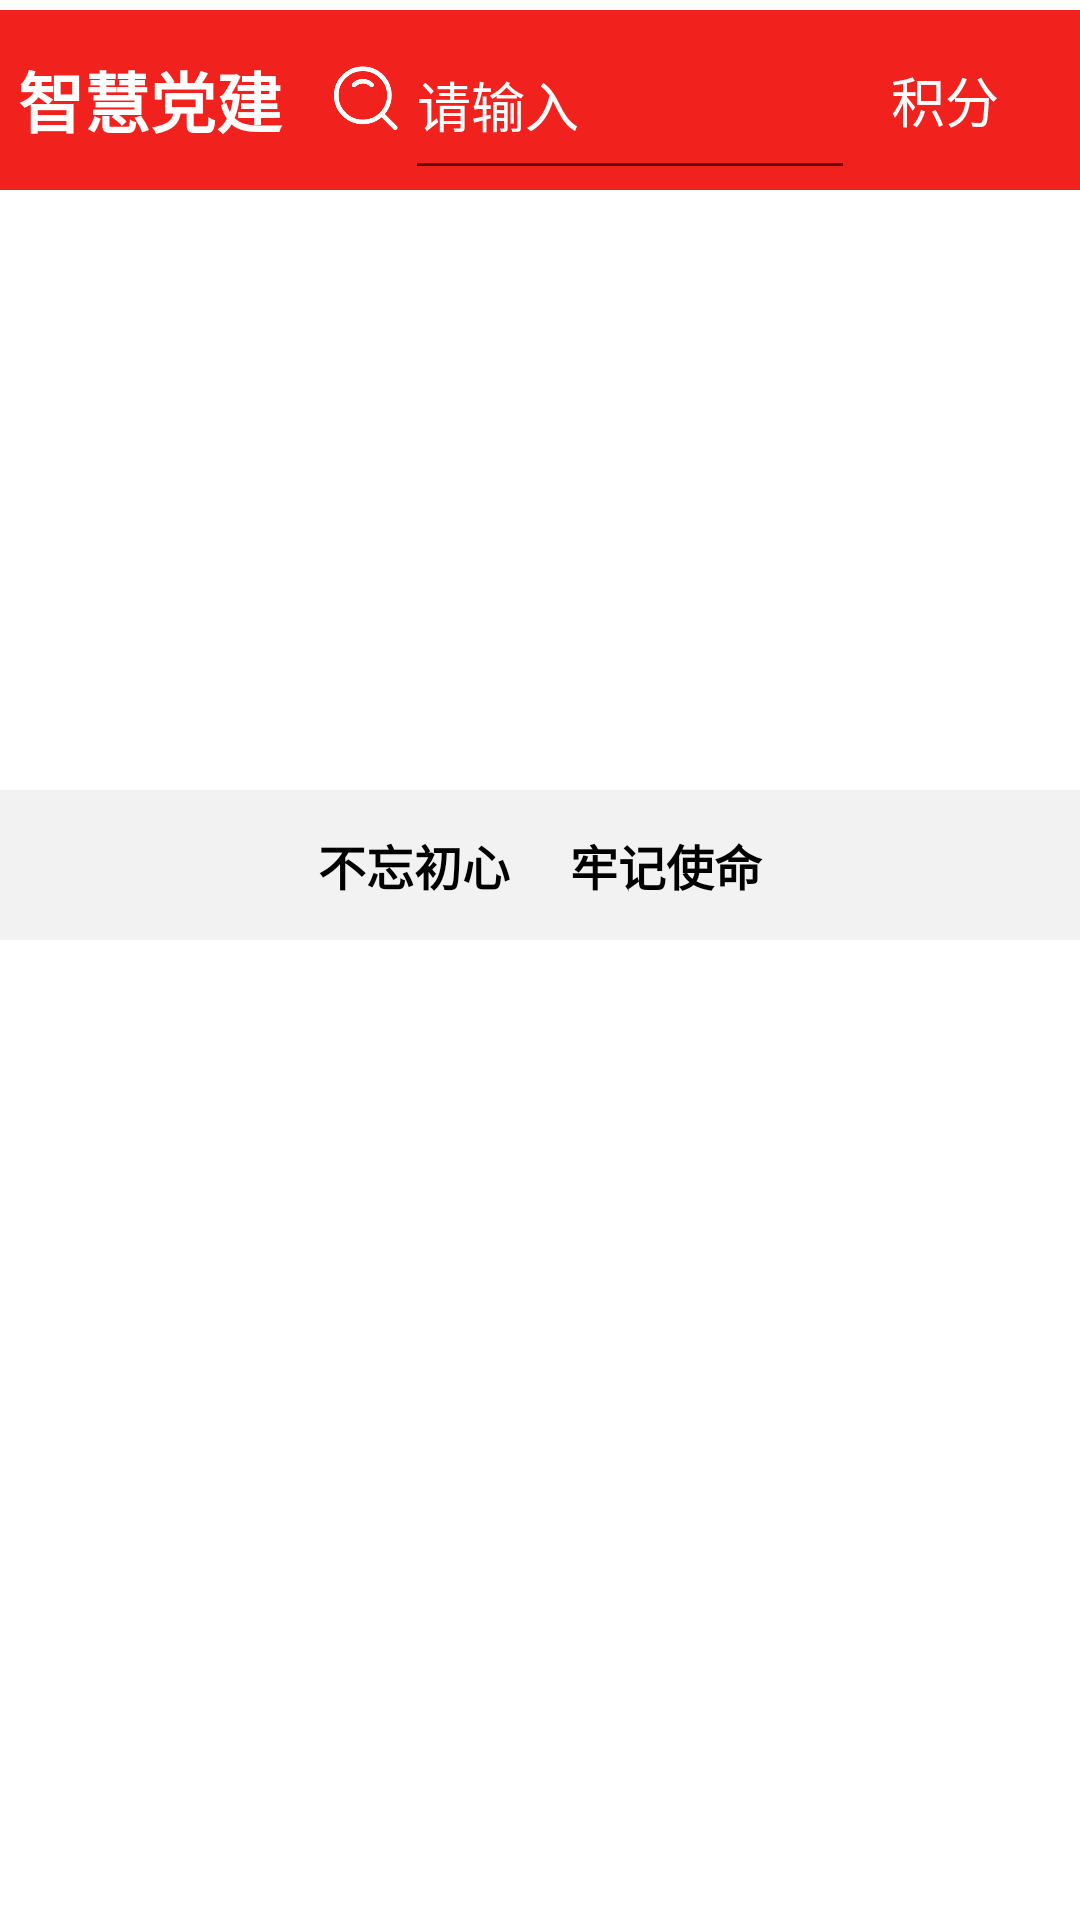

Icon click points for this 1080w x 1920h phone screenshot, format (x=x, y=y):
search: (x=366, y=98)
